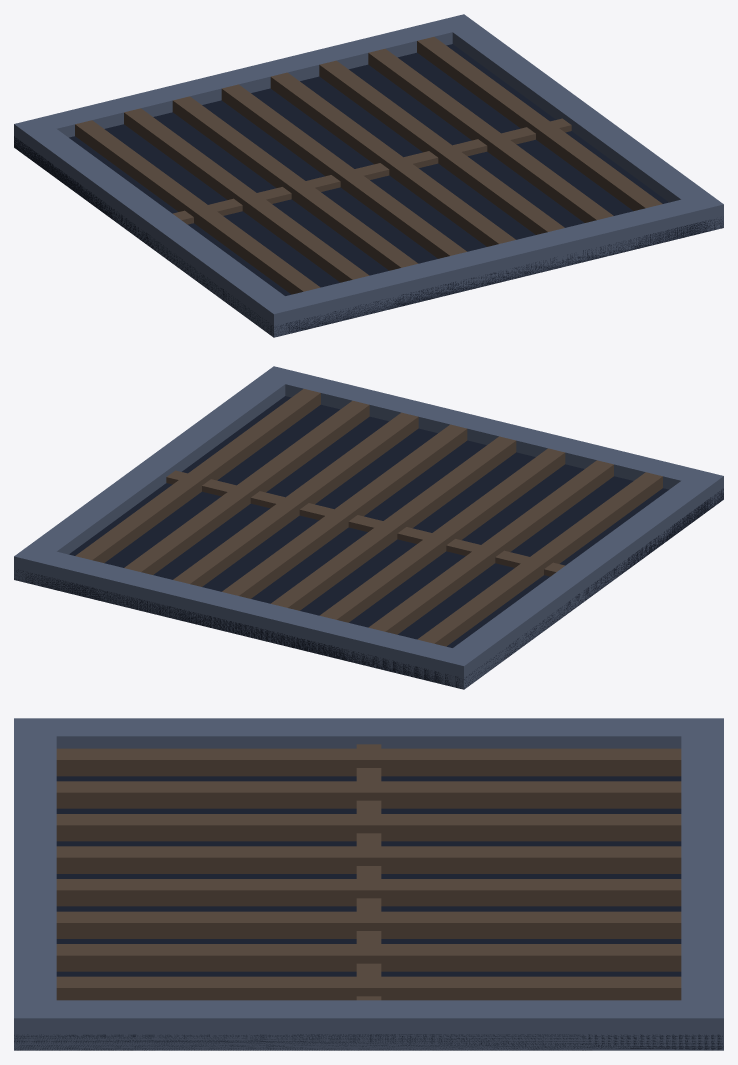
File: city_vent_grate.glb
3 views of the same model, one above another, from view 1: azimuth 30°, elevation 25°; view 2: azimuth 150°, elevation 25°; view 3: azimuth 270°, elevation 25° (orthographic). The views are drawn at different scales.
Visible parts, largest first — view 1: recess, frame.003, frame, frame.001, frame.002, grate_bar.002, grate_bar.003, grate_bar.004, grate_bar.005, grate_bar.006, grate_bar.001, grate_bar.007 (+2 smaller); view 2: recess, frame.002, frame, frame.001, frame.003, grate_bar.002, grate_bar.003, grate_bar.004, grate_bar.005, grate_bar.006, grate_bar.001, grate_bar.007 (+2 smaller); view 3: frame.001, recess, frame, grate_bar, grate_bar.001, grate_bar.003, grate_bar.006, grate_bar.002, grate_bar.004, grate_bar.005, grate_bar.007, frame.002 (+2 smaller).
Part boxes in pixels (x1,y1,x2,y2): recess: (14,44,723,336); frame.003: (285,199,696,330); frame: (14,117,300,337); frame.001: (437,14,723,234); frame.002: (41,21,452,137); grate_bar.002: (172,96,417,270); grate_bar.003: (221,84,466,258); grate_bar.004: (270,72,515,246); grate_bar.005: (319,60,564,234); grate_bar.006: (368,48,613,222); grate_bar.001: (124,108,369,282); grate_bar.007: (417,37,662,210); recess: (14,396,723,688); frame.002: (41,551,452,682); frame: (437,469,723,689); frame.001: (14,366,300,586); frame.003: (285,373,696,489); grate_bar.002: (320,448,565,622); grate_bar.003: (271,436,516,610); grate_bar.004: (222,424,467,598); grate_bar.005: (173,412,418,586); grate_bar.006: (124,400,369,574); grate_bar.001: (368,460,613,634); grate_bar.007: (75,389,320,562); frame.001: (14,1000,723,1050); recess: (14,776,723,1050); frame: (14,718,723,748); grate_bar: (56,748,681,776); grate_bar.001: (56,781,681,808); grate_bar.003: (56,846,681,873); grate_bar.006: (56,944,681,971); grate_bar.002: (56,814,681,841); grate_bar.004: (56,879,681,906); grate_bar.005: (56,911,681,938); grate_bar.007: (56,976,681,1000); frame.002: (681,736,723,1000).
Size of the model in its own units: 1 by 0.05 by 1.
